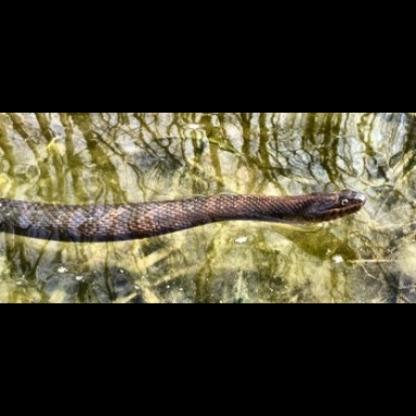Snake: (3, 179, 374, 242)
